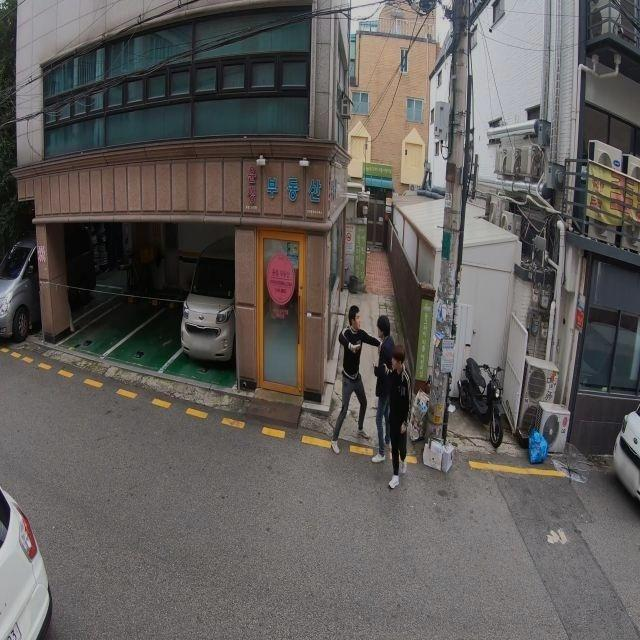fight: (332, 305, 400, 461)
non-fight: (380, 344, 412, 489)
